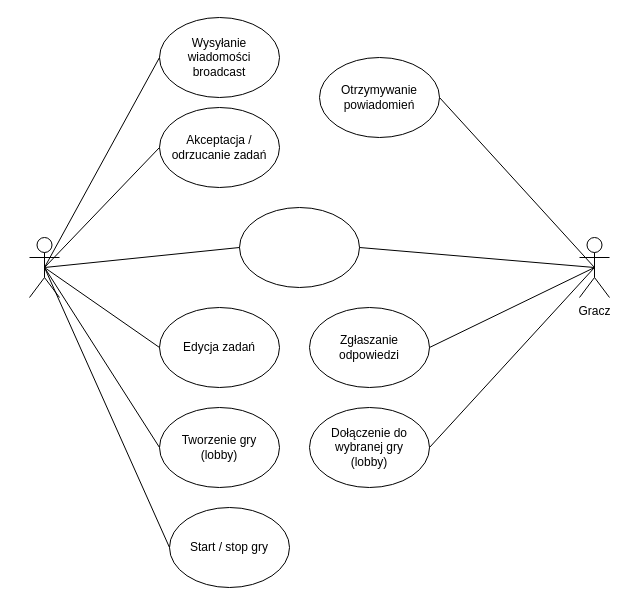
The diagram is 628 pixels wide and 605 high, and some of its shapes have lost their labels. Each missing label, with the centre of its shape:
"Gry Mistrz" goes at (x=44, y=267).
"Sprawdzanie stanu rozgrywki" goes at (x=299, y=247).
